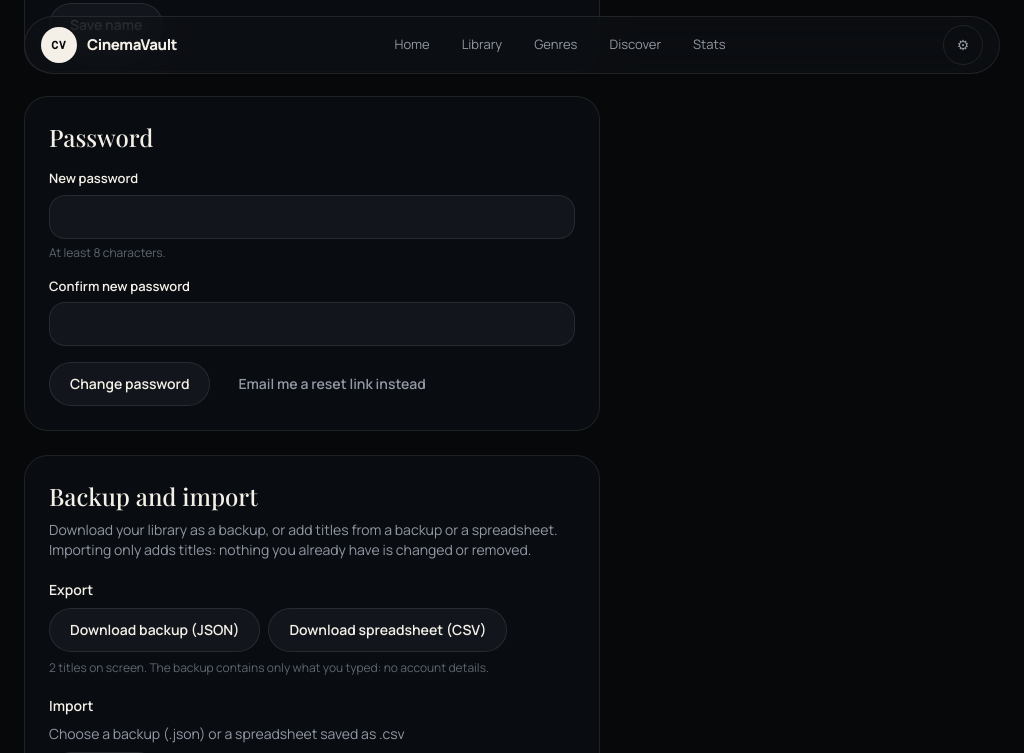
Test: password › can email a reset link instead, without saying whether the address exists
(page scrolled)
Click the button "Email me a reset link instead" at x=332, y=384, box x1=218 y1=362 x2=446 y2=406
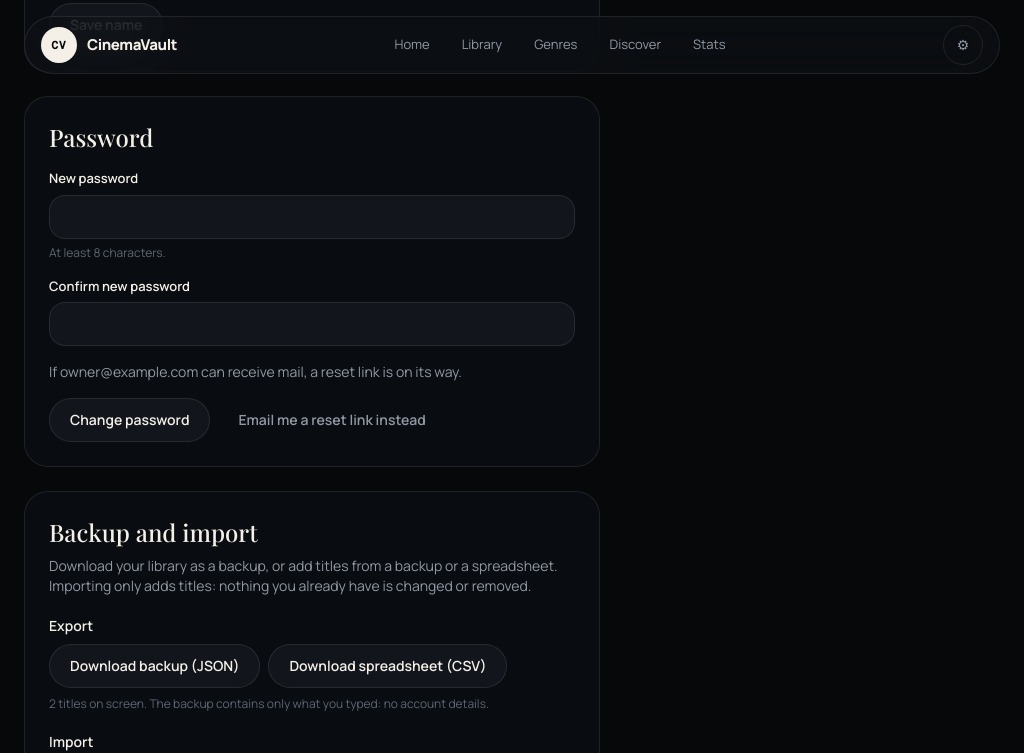
Expected: the text "If owner@example.com can receive mail, a reset link is on its way." is shown, x1=49 y1=362 x2=462 y2=381
